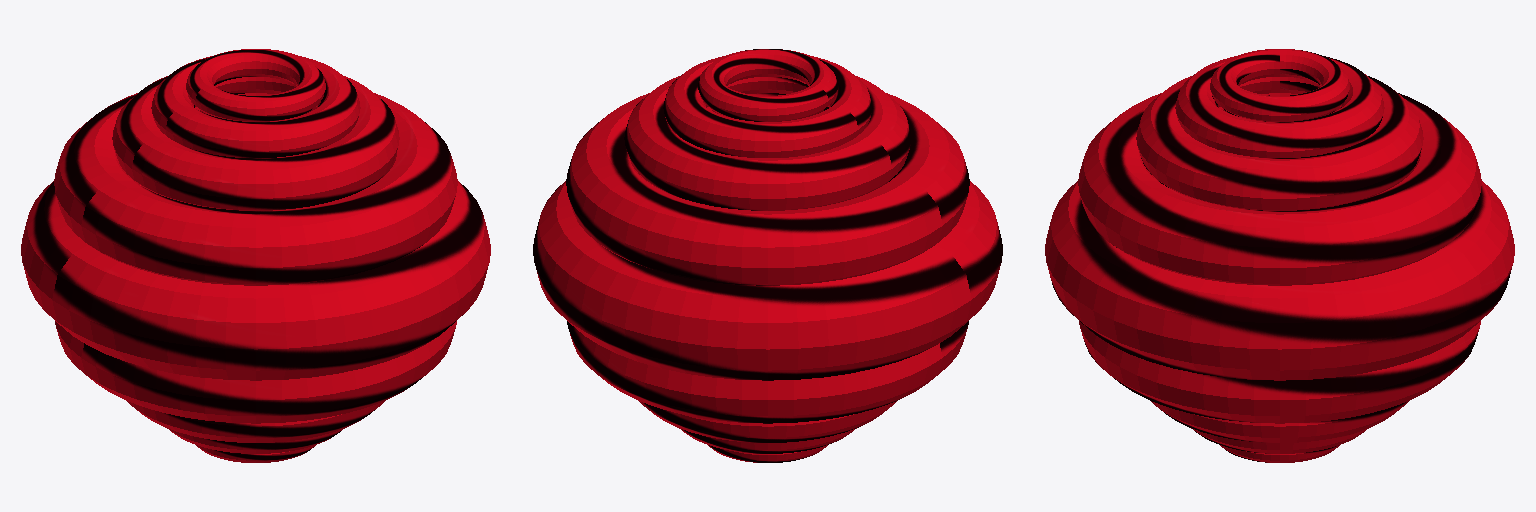
3 views of the same model, side by side, from view 1: azimuth 30°, elevation 25°; view 2: azimuth 150°, elevation 25°; view 3: azimuth 270°, elevation 25° (orthographic).
Visible parts, largest first — view 1: トーラス, トーラス.001, トーラス.003, トーラス.002, トーラス.005, トーラス.007, トーラス.004, トーラス.006, トーラス.008; view 2: トーラス, トーラス.001, トーラス.003, トーラス.002, トーラス.005, トーラス.007, トーラス.004, トーラス.006, トーラス.008; view 3: トーラス, トーラス.001, トーラス.003, トーラス.002, トーラス.005, トーラス.007, トーラス.004, トーラス.006, トーラス.008.
Boxes of the visible parts, <box> form: トーラス: <box>21,181,490,380</box>; トーラス.001: <box>54,93,457,285</box>; トーラス.003: <box>112,76,399,210</box>; トーラス.002: <box>55,321,456,423</box>; トーラス.005: <box>151,56,360,157</box>; トーラス.007: <box>186,49,325,121</box>; トーラス.004: <box>127,401,384,442</box>; トーラス.006: <box>167,428,344,453</box>; トーラス.008: <box>196,445,315,462</box>; トーラス: <box>533,181,1002,380</box>; トーラス.001: <box>566,93,969,285</box>; トーラス.003: <box>624,76,911,210</box>; トーラス.002: <box>567,321,968,423</box>; トーラス.005: <box>663,56,872,157</box>; トーラス.007: <box>698,49,837,121</box>; トーラス.004: <box>639,401,896,442</box>; トーラス.006: <box>679,428,856,453</box>; トーラス.008: <box>708,445,827,462</box>; トーラス: <box>1045,181,1514,380</box>; トーラス.001: <box>1078,93,1481,285</box>; トーラス.003: <box>1136,76,1423,210</box>; トーラス.002: <box>1079,321,1480,423</box>; トーラス.005: <box>1175,56,1384,157</box>; トーラス.007: <box>1210,49,1349,121</box>; トーラス.004: <box>1151,401,1408,442</box>; トーラス.006: <box>1191,428,1368,453</box>; トーラス.008: <box>1220,445,1339,462</box>.
Bounding box in the file's own units: 2.25 × 1.92 × 2.25.
9 materials, 1 textured.